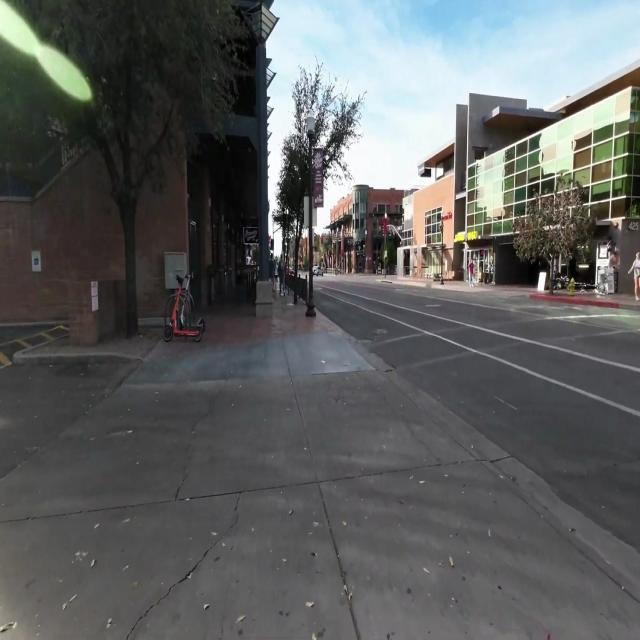road: (316, 277, 640, 553)
side walk: (0, 309, 640, 639)
street sign: (302, 158, 343, 243), (307, 116, 315, 134)
